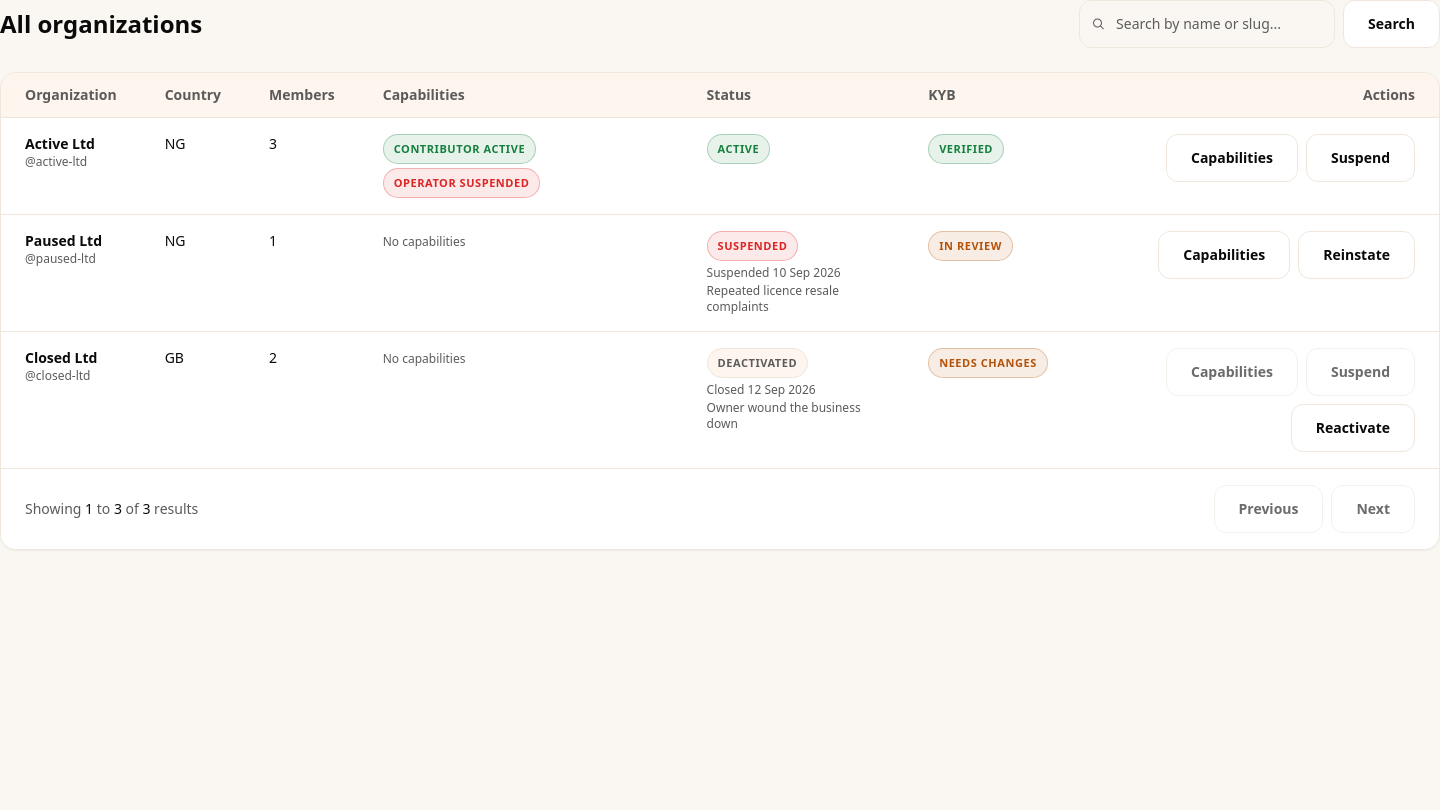
Test: AdminOrganizationsList › keeps Suspend disabled until a reason of at least 5 characters is typed, then sends it
Click the button "Suspend" in the row of "Active Ltd" at (1360,158), box [1306,134,1415,182]
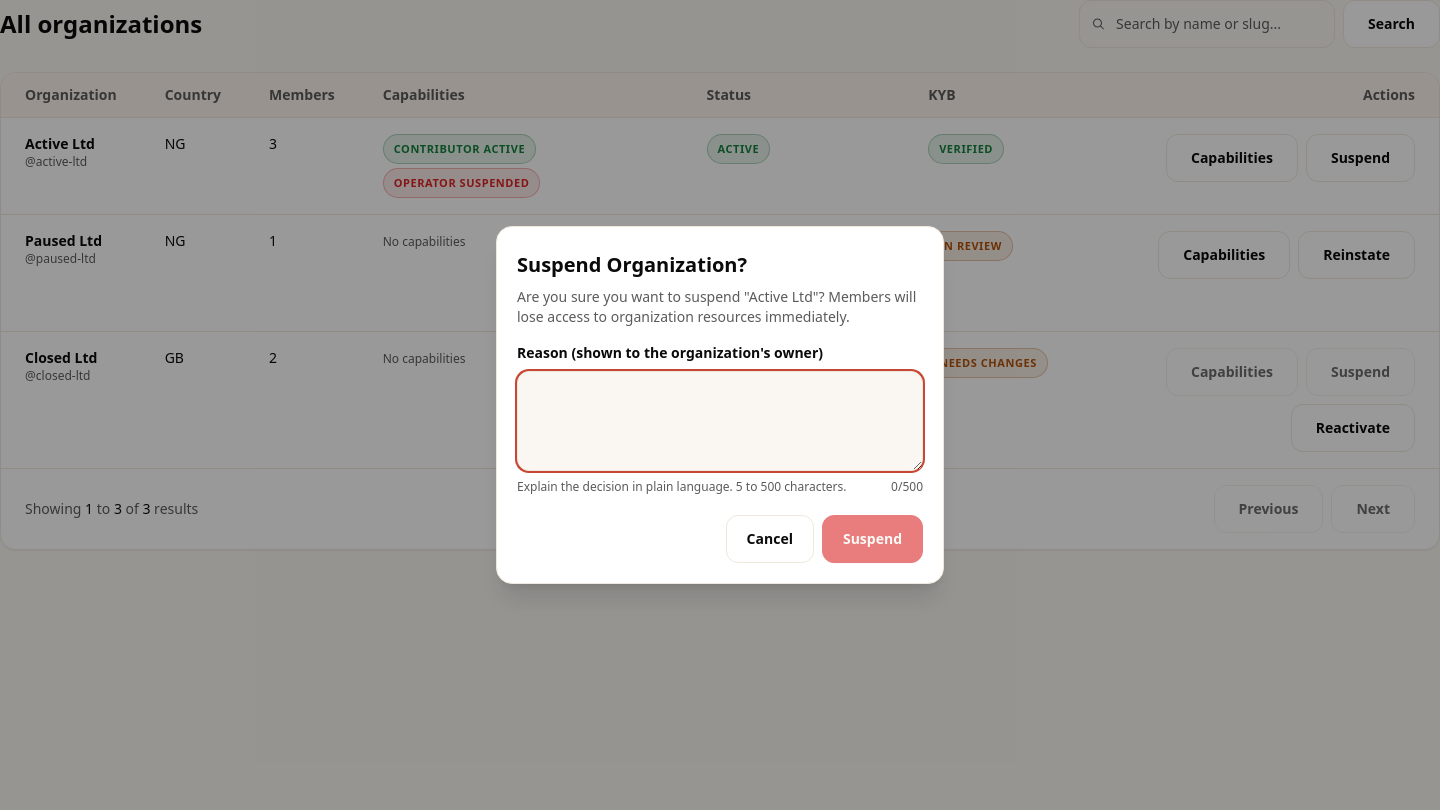
Now the text "Explain the decision in plain language. 5 to 500 characters." is shown, box [517,479,846,495]
Now the button "Suspend" is disabled, box [822,515,923,563]
Type "  no  " into the text box labelled "Reason (shown to the organization's owner)" at (720,421), box [517,371,923,471]
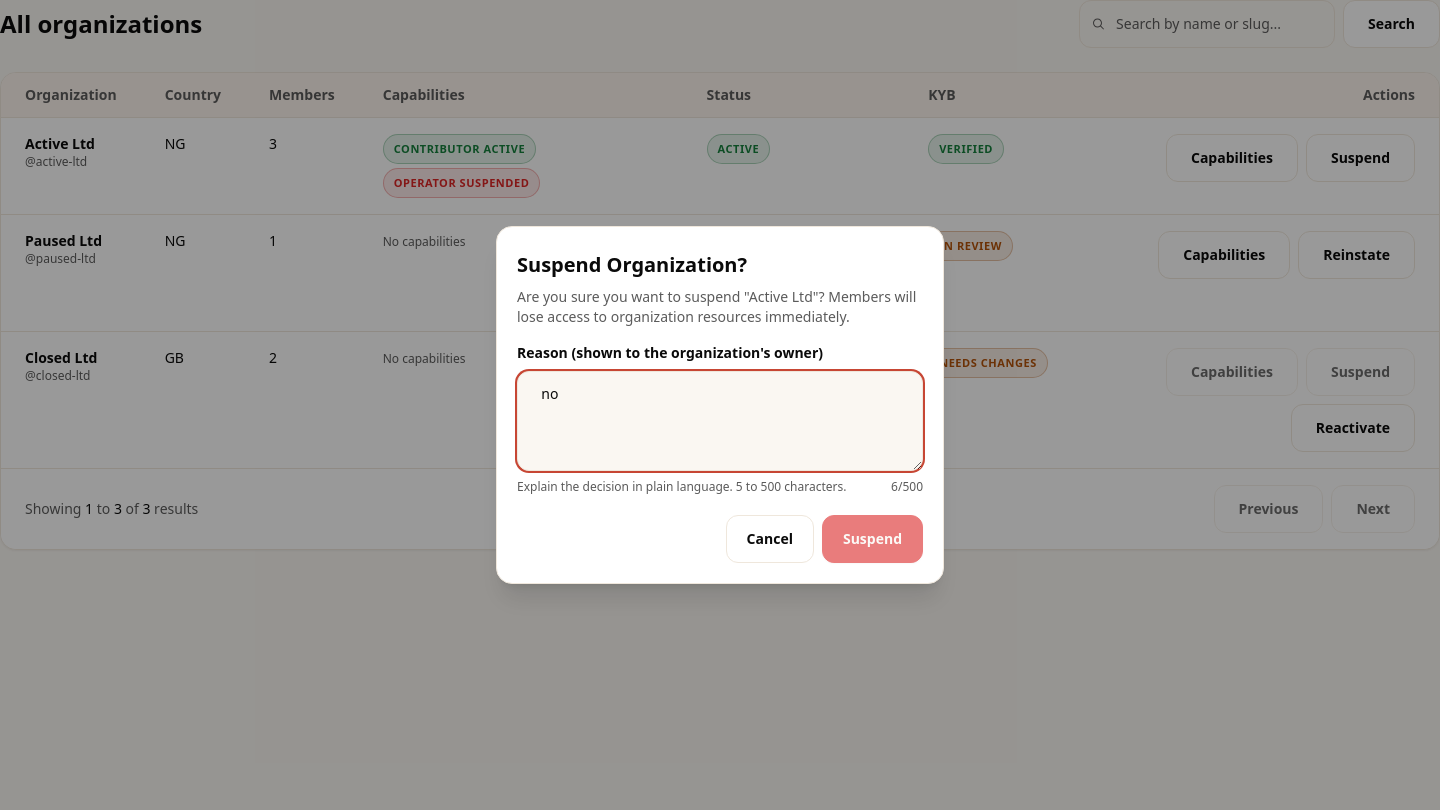
Now the button "Suspend" is disabled, box [822,515,923,563]
Replace the text in the text box labelled "Reason (shown to the organization's owner)" with "Repeated licence resale complaints" at (720,421), box [517,371,923,471]
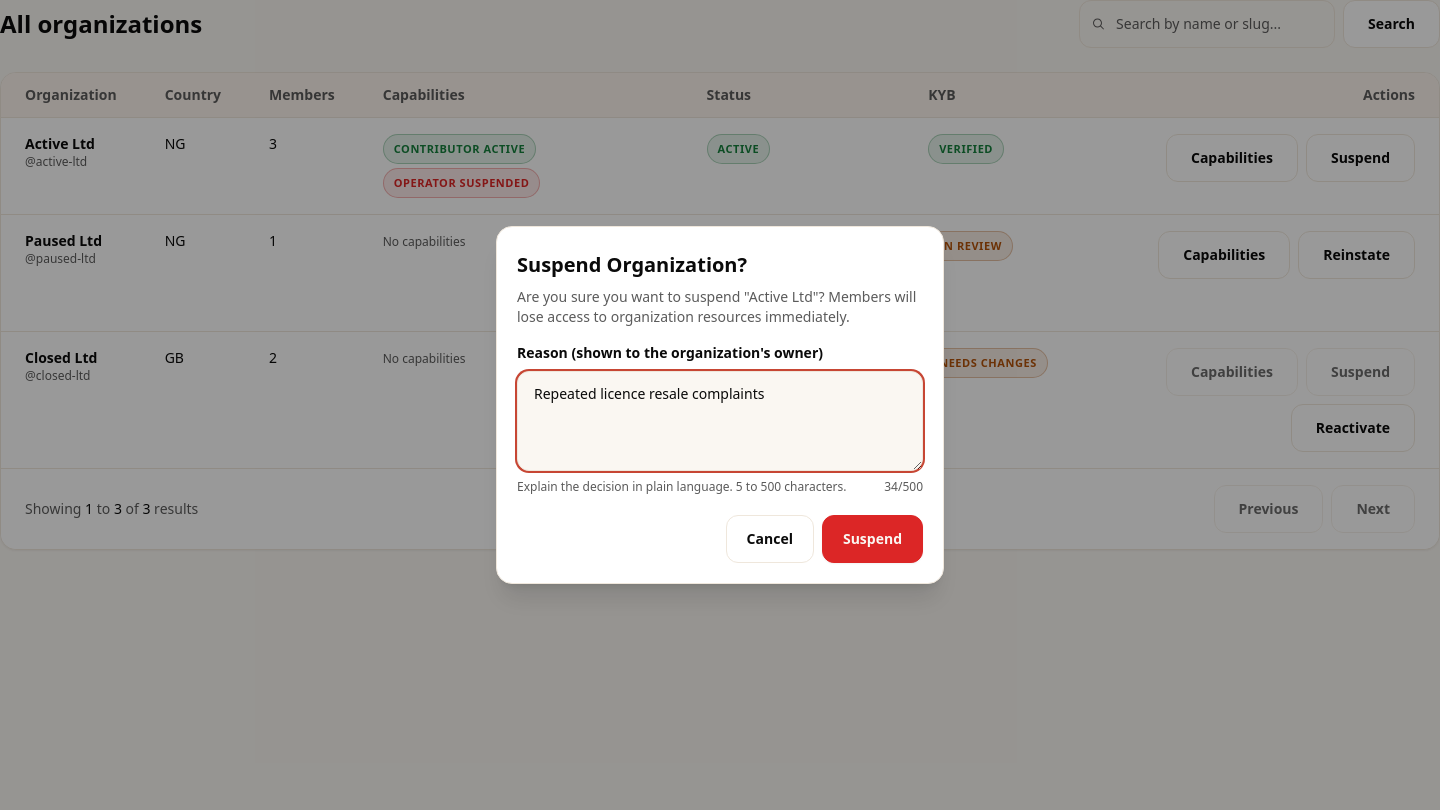
Now the button "Suspend" is enabled
Click the button "Suspend" at (872,539), box [822,515,923,563]
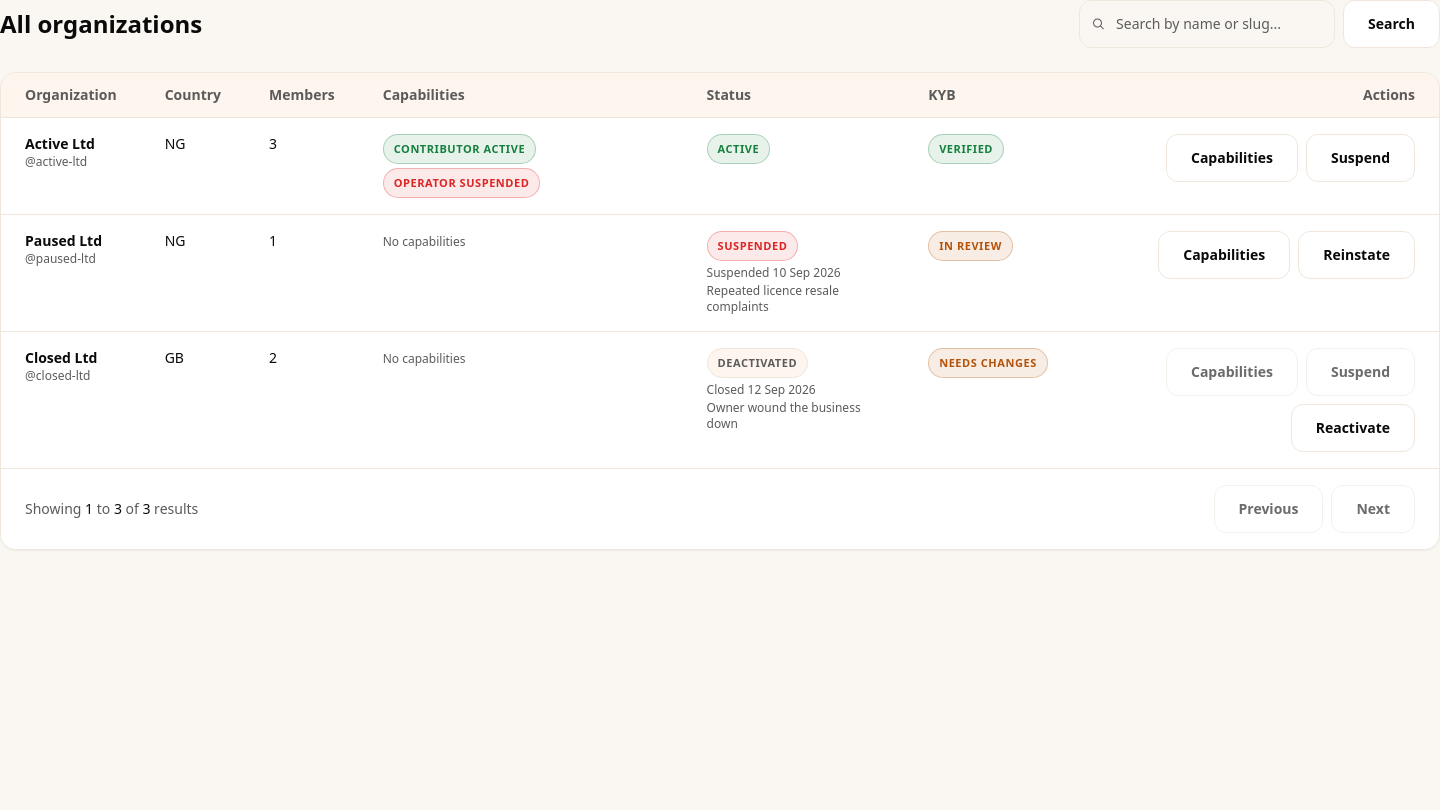
Now the dialog is gone
